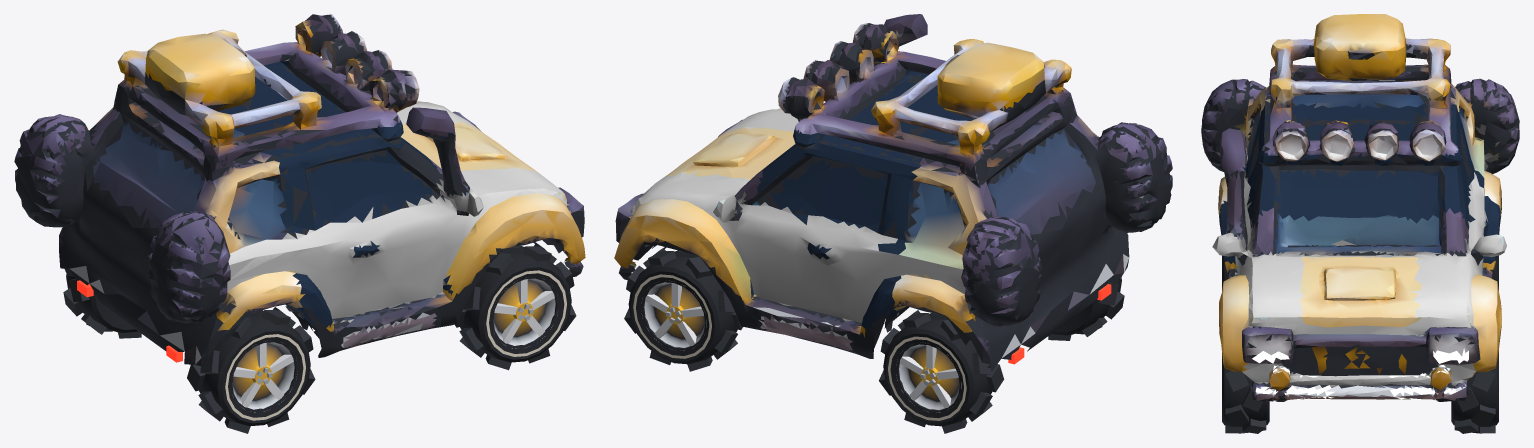
File: car-tundra.glb
The picture shows the model from 3 angles, left to right: view 1: azimuth 30°, elevation 25°; view 2: azimuth 150°, elevation 25°; view 3: azimuth 270°, elevation 25°; orthographic projection. The views are drawn at different scales.
Parts seen in each view (by area): view 1: body, wheel_rr, wheel_fr, wheel_rl; view 2: body, wheel_rl, wheel_fl, wheel_rr; view 3: body, wheel_fl, wheel_fr.
Part boxes in pixels (box(x1,y1,x2,y2)): body: box(14, 14, 585, 366); wheel_rr: box(187, 307, 315, 433); wheel_fr: box(454, 243, 576, 370); wheel_rl: box(63, 268, 141, 338); body: box(614, 14, 1172, 371); wheel_rl: box(879, 310, 1004, 433); wheel_fl: box(624, 248, 742, 371); wheel_rr: box(1048, 275, 1124, 340); body: box(1201, 14, 1519, 401); wheel_fl: box(1451, 350, 1498, 433); wheel_fr: box(1222, 353, 1269, 433).
Size of the model in its own units: 4.11 by 2.93 by 2.9.
